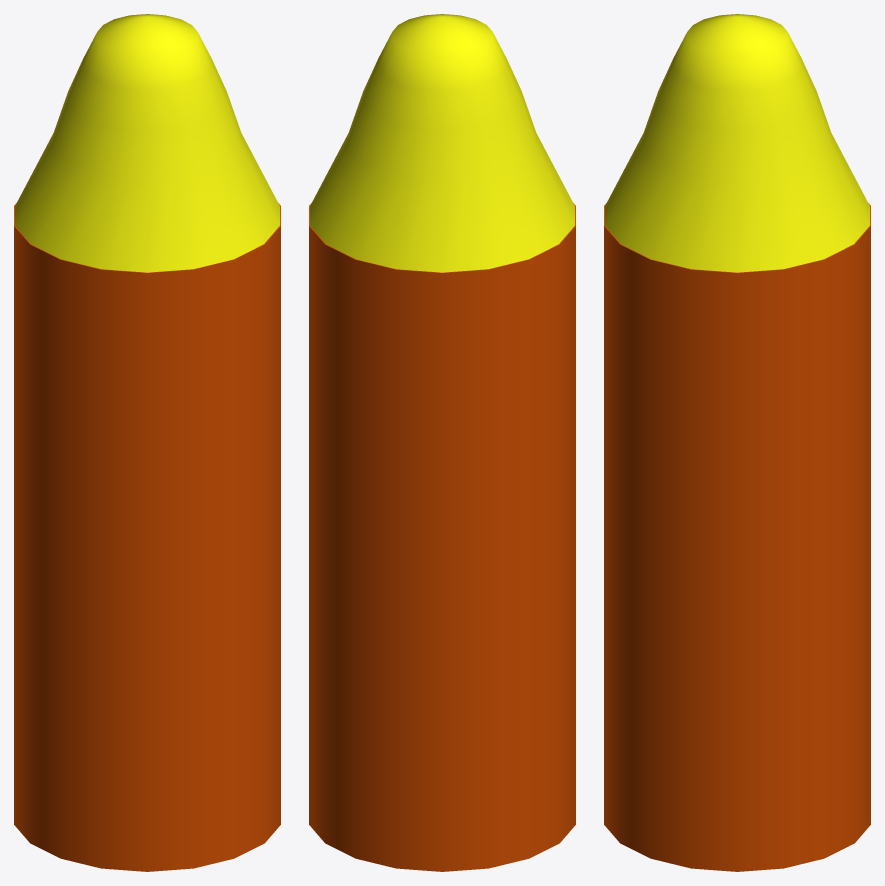
The model's file is yellowcrayon_Up.FBX.
3 views of the same model, side by side, from view 1: azimuth 30°, elevation 25°; view 2: azimuth 150°, elevation 25°; view 3: azimuth 270°, elevation 25° (orthographic).
Visible parts, largest first — view 1: Cylinder001, Cylinder002; view 2: Cylinder001, Cylinder002; view 3: Cylinder001, Cylinder002.
Boxes of the visible parts, x1,y1,x2,y2 form: Cylinder001: (14, 203, 280, 871); Cylinder002: (15, 14, 279, 272); Cylinder001: (309, 203, 575, 871); Cylinder002: (310, 14, 574, 272); Cylinder001: (604, 203, 870, 871); Cylinder002: (605, 14, 869, 272).
Bounding box in the file's own units: 12.9 × 41.89 × 12.71.
